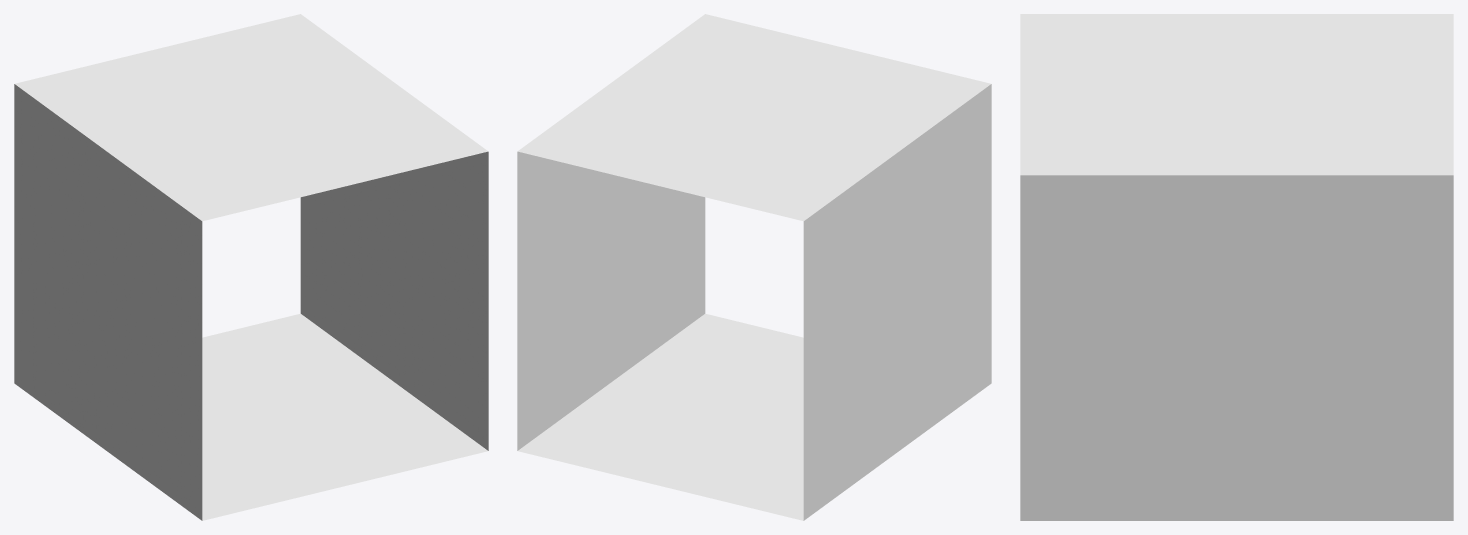
The model's file is starBridge_InsideQuarter.fbx.
3 renders of one model, left to right at view 1: azimuth 30°, elevation 25°; view 2: azimuth 150°, elevation 25°; view 3: azimuth 270°, elevation 25°, orthographic. The views are drawn at different scales.
Parts seen in each view (by area): view 1: starLine2; view 2: starLine2; view 3: starLine2.
Boxes of the visible parts, x1,y1,x2,y2 form: starLine2: (14,14,488,520); starLine2: (517,14,991,520); starLine2: (1020,14,1453,520).
Size of the model in its own units: 220 by 220 by 250.
